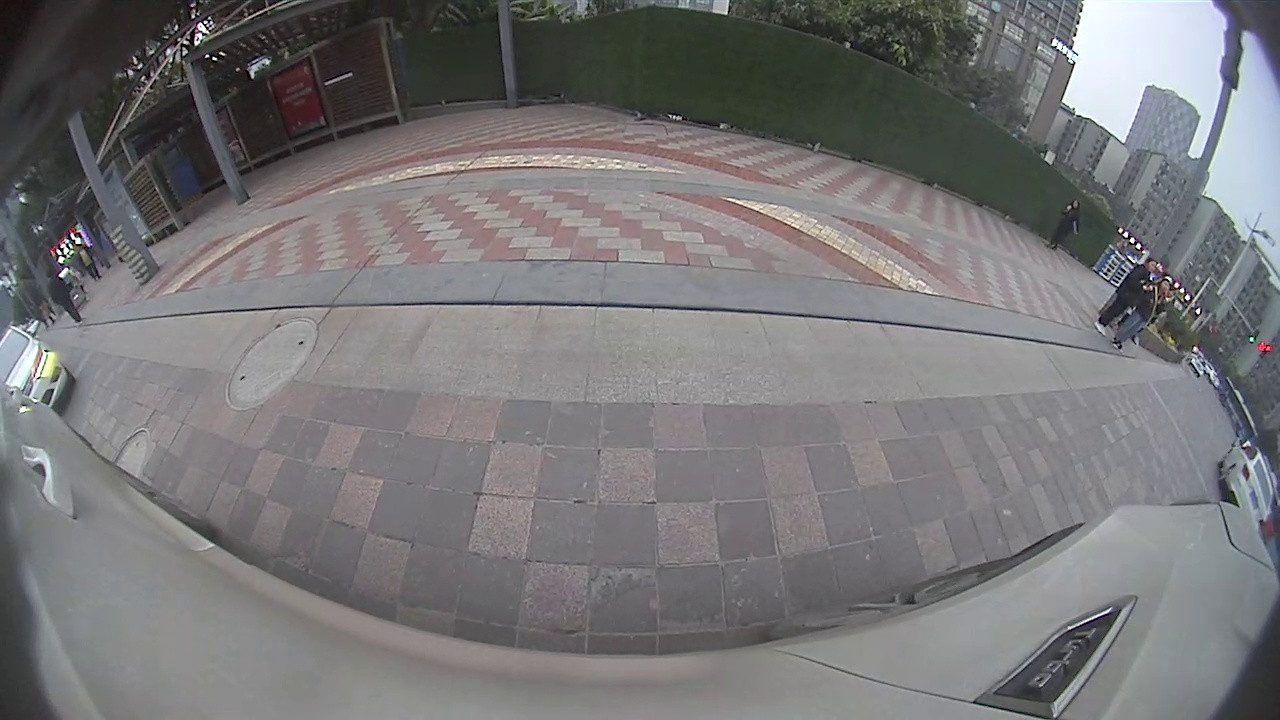car: (2, 319, 76, 412), (1217, 438, 1277, 528)
person: (1094, 257, 1157, 340), (43, 267, 82, 324), (1047, 198, 1083, 250)
